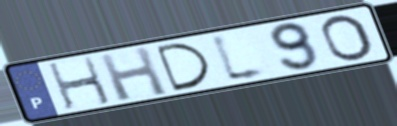9: (266, 20, 323, 73)
D: (152, 40, 214, 93)
H: (96, 44, 172, 103), (44, 55, 115, 112)
L: (207, 31, 275, 86)
O: (319, 13, 378, 65)
